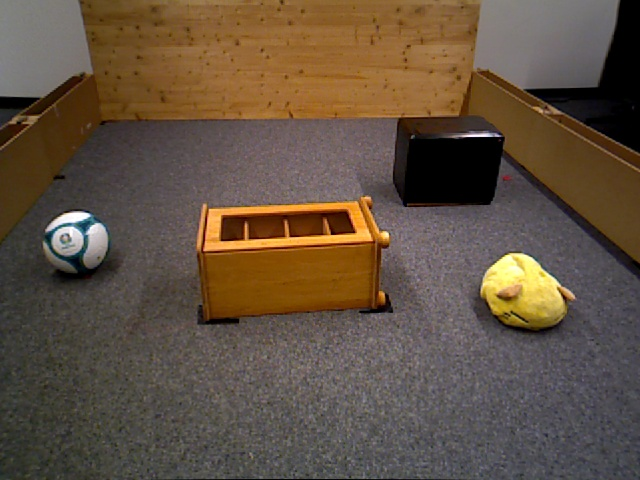grasp: (481, 253, 570, 331)
kick: (41, 210, 111, 278)
push: (395, 115, 503, 210)
